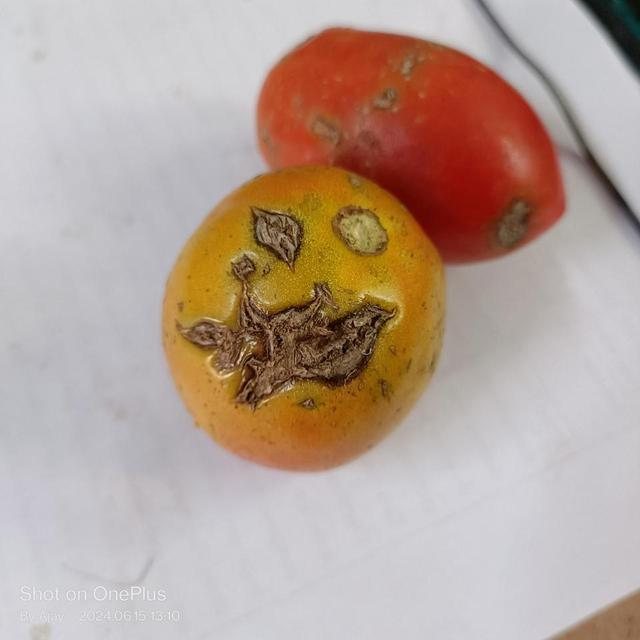Bacterial Spot Fruit: (20, 18, 342, 224)
